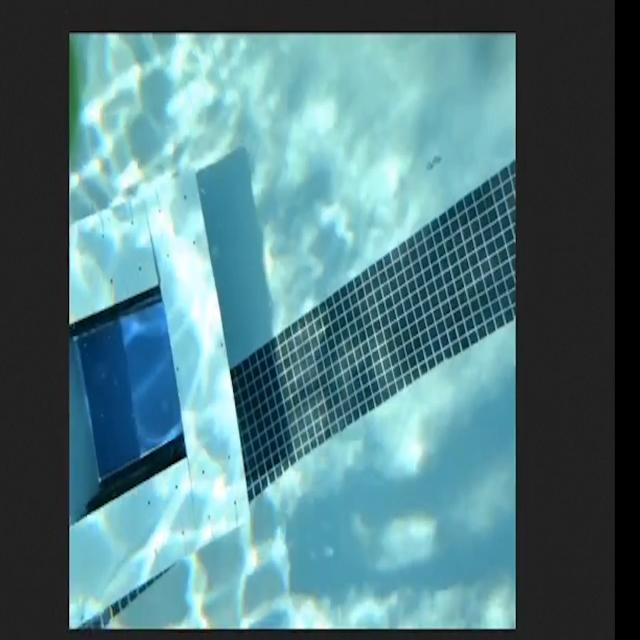Bin: (66, 165, 262, 628)
